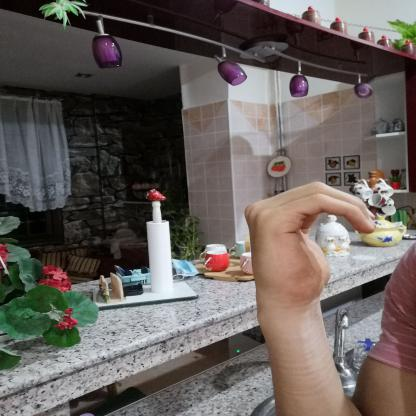HAA: (233, 170, 388, 317)
